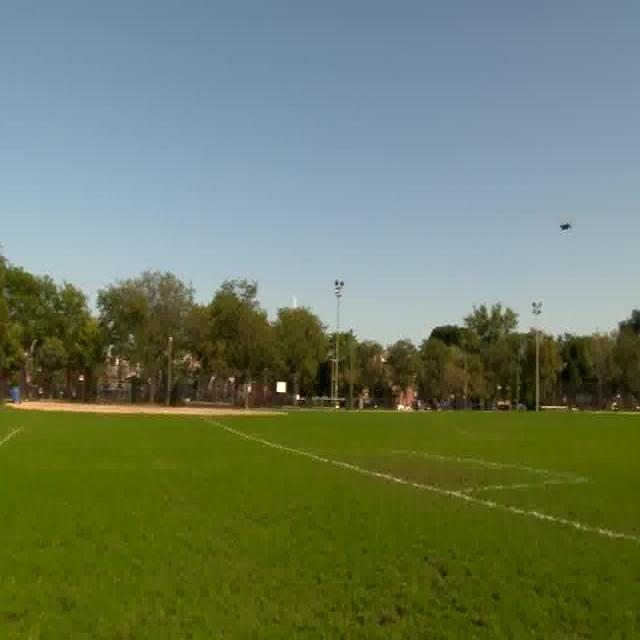drone: (552, 217, 574, 238)
